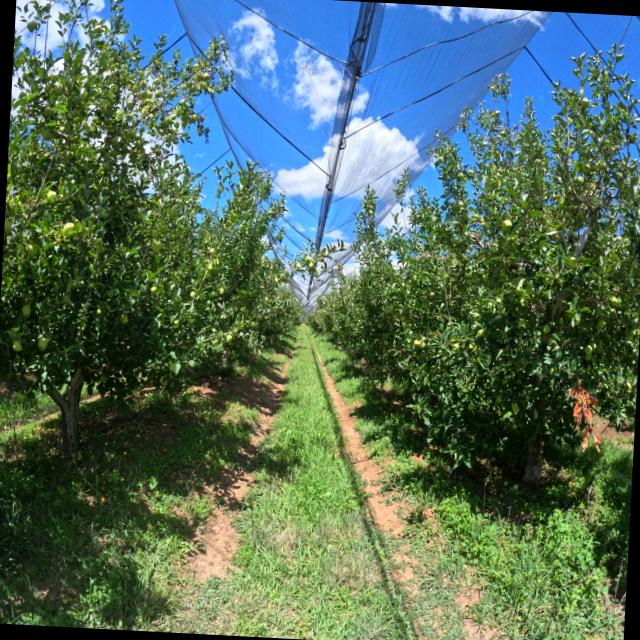-FireBlight-: (564, 386, 606, 456)
